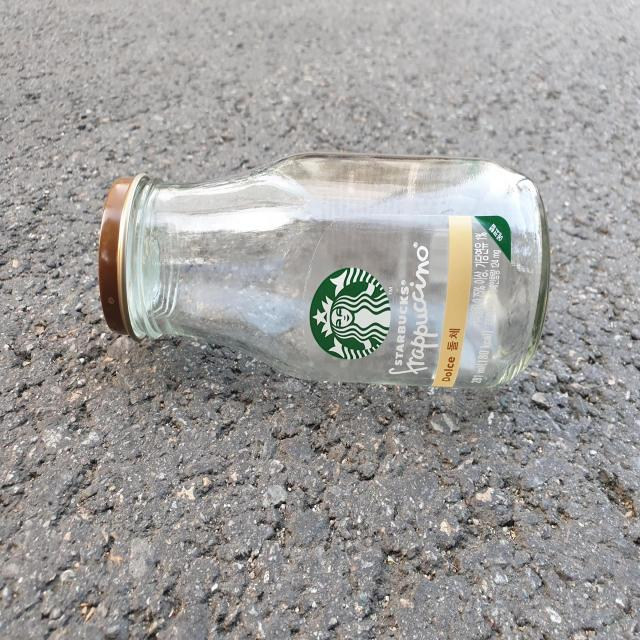glass: (98, 153, 550, 389)
